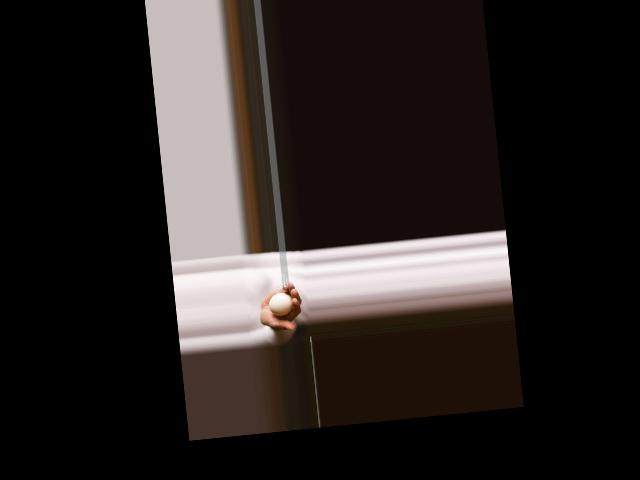egg: (268, 291, 294, 316)
